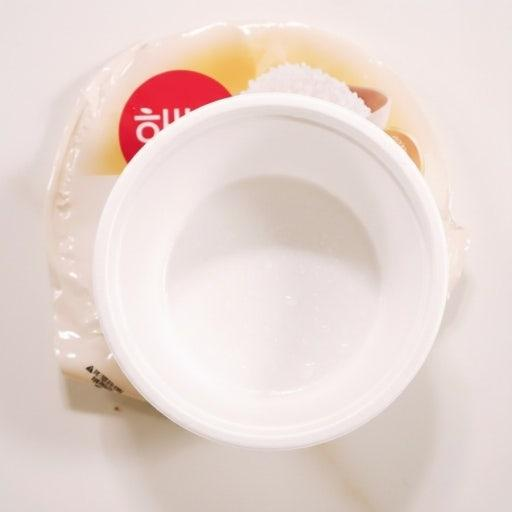plastic: (93, 94, 448, 448)
vinyl: (44, 23, 464, 411)
